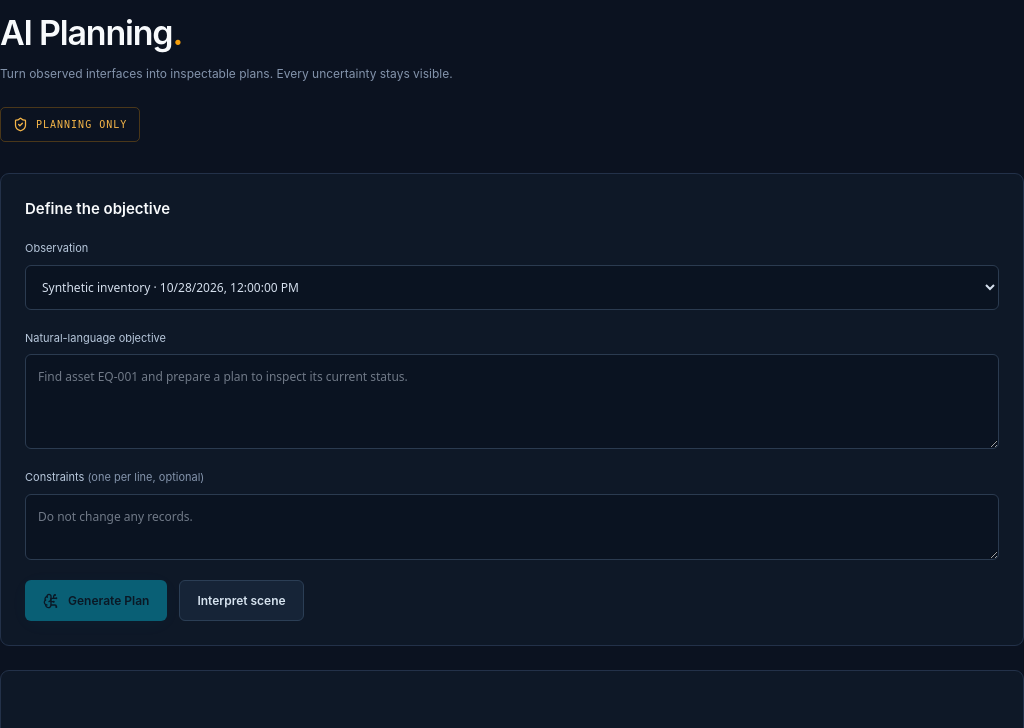
Test case: generates and renders a typed plan, overlays and warnings
The image size is (1024, 728).
Replace the text in the text box labelled "Natural-language objective" with "Find EQ-001" at {"x": 512, "y": 402}, box [25,354,999,449]
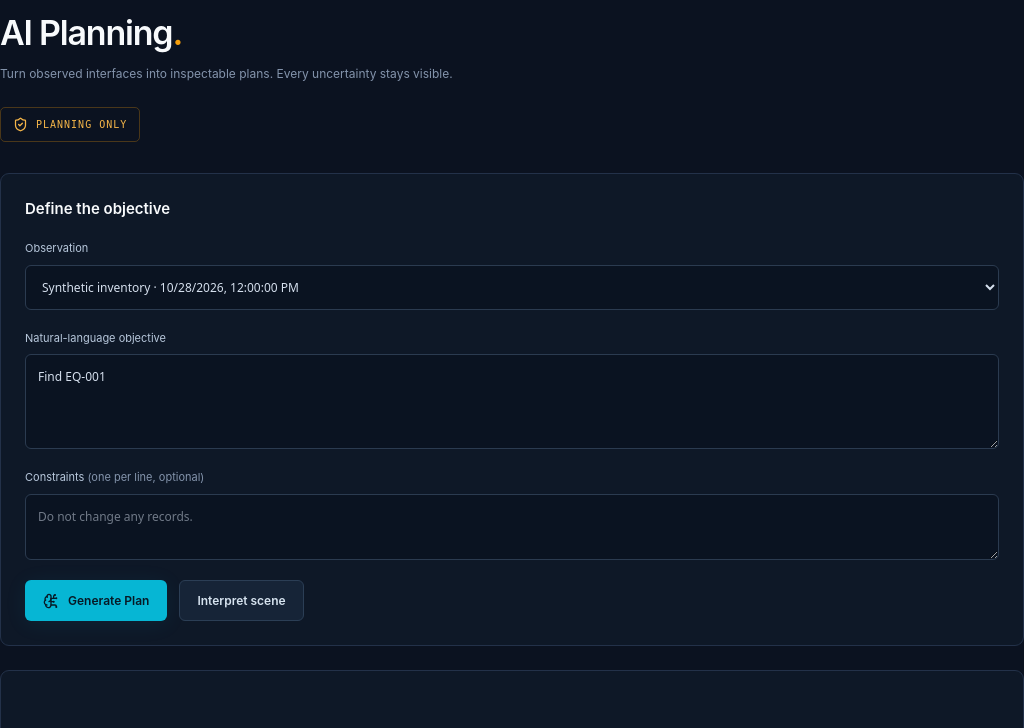
Click the button "Generate Plan" at {"x": 96, "y": 601}, box [25,580,167,622]
(page scrolled)
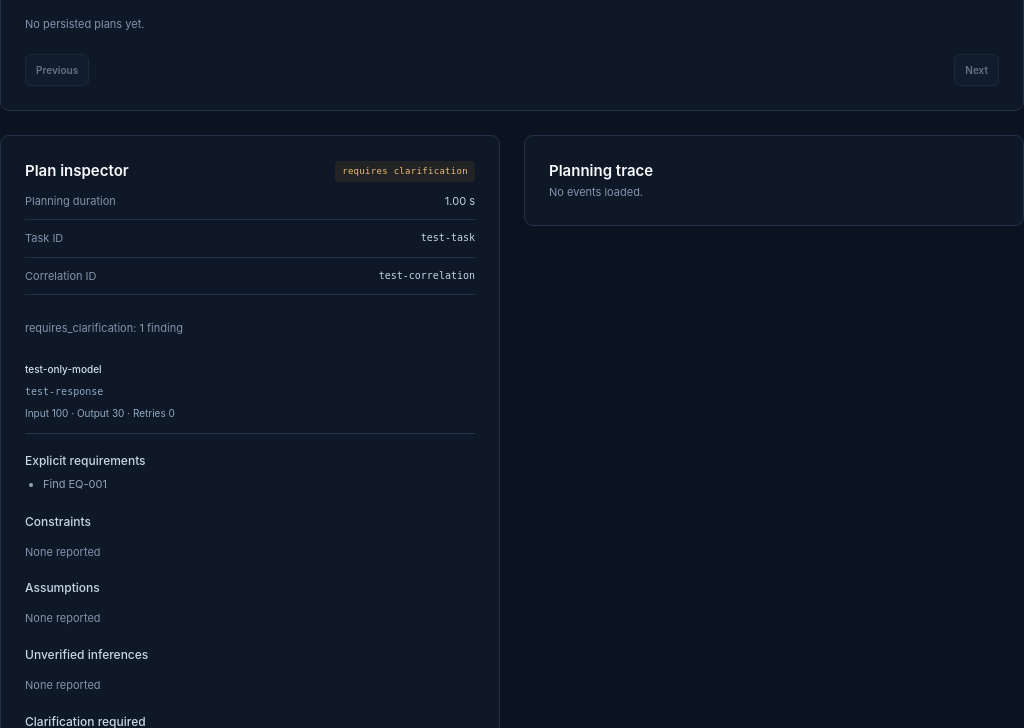
expect the text "test-only-model" is shown: met, box [25,363,102,375]
